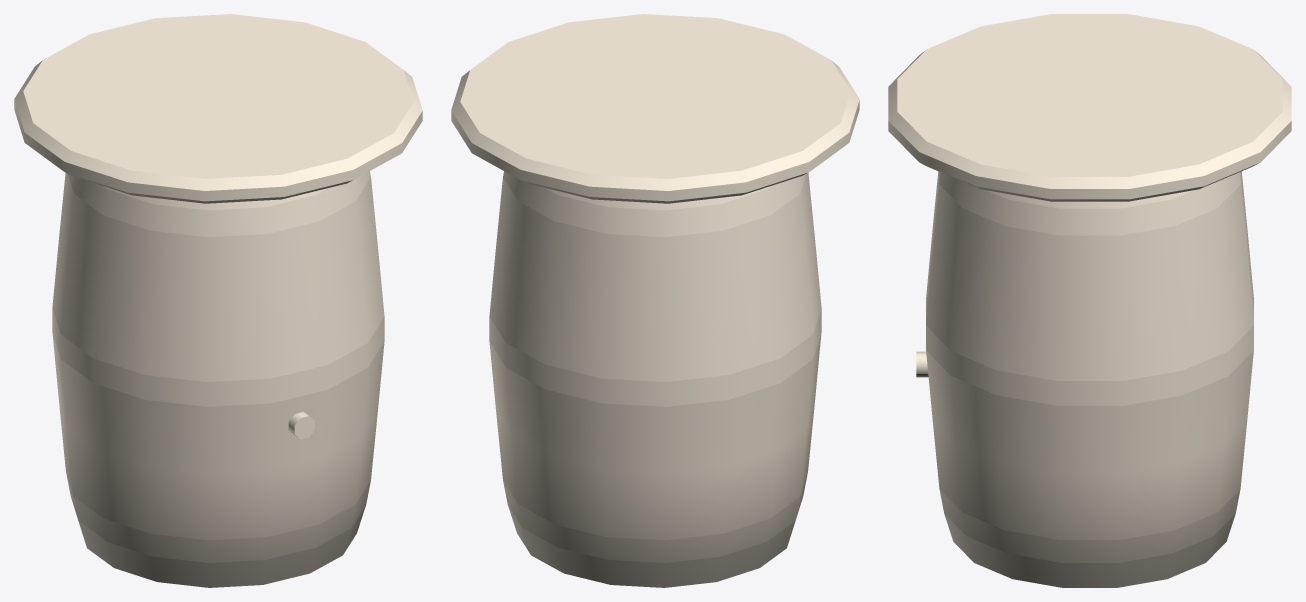
File: SM_VKI_Prop_Table_Barrel.fbx
The picture shows the model from 3 angles, left to right: view 1: azimuth 30°, elevation 25°; view 2: azimuth 150°, elevation 25°; view 3: azimuth 270°, elevation 25°; orthographic projection.
Visible parts, largest first — view 1: SM_VKI_Prop_Table_Barrel.001; view 2: SM_VKI_Prop_Table_Barrel.001; view 3: SM_VKI_Prop_Table_Barrel.001.
Part boxes in pixels (bbox=[...]): SM_VKI_Prop_Table_Barrel.001: bbox=[14, 14, 422, 587]; SM_VKI_Prop_Table_Barrel.001: bbox=[451, 14, 859, 587]; SM_VKI_Prop_Table_Barrel.001: bbox=[888, 14, 1291, 587].
Size of the model in its own units: 0.8827 by 1.05 by 0.8827.
